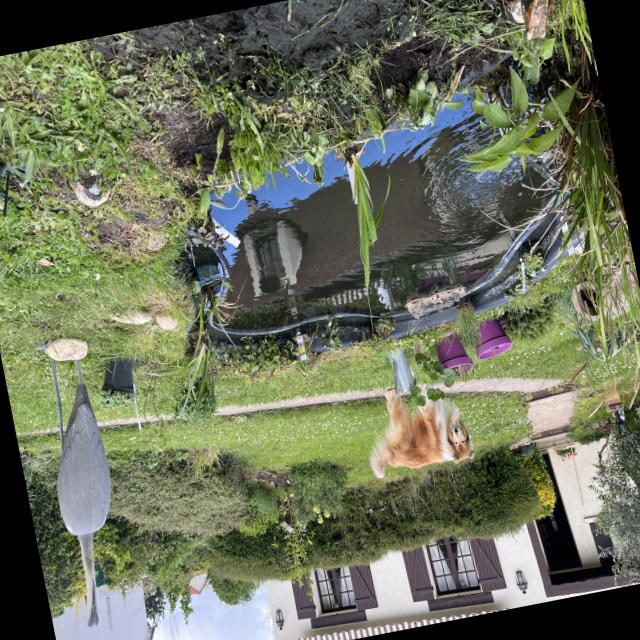Dog: (353, 356, 486, 500)
Heron: (16, 327, 157, 640)
